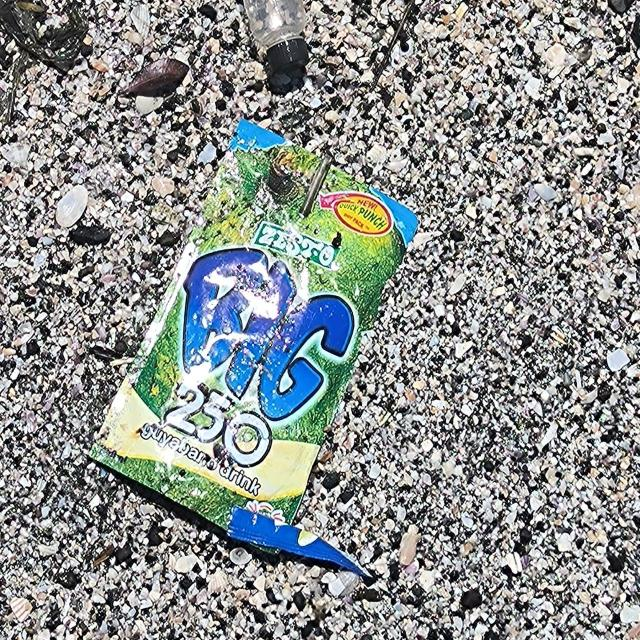plastic_waste: (87, 118, 421, 559)
